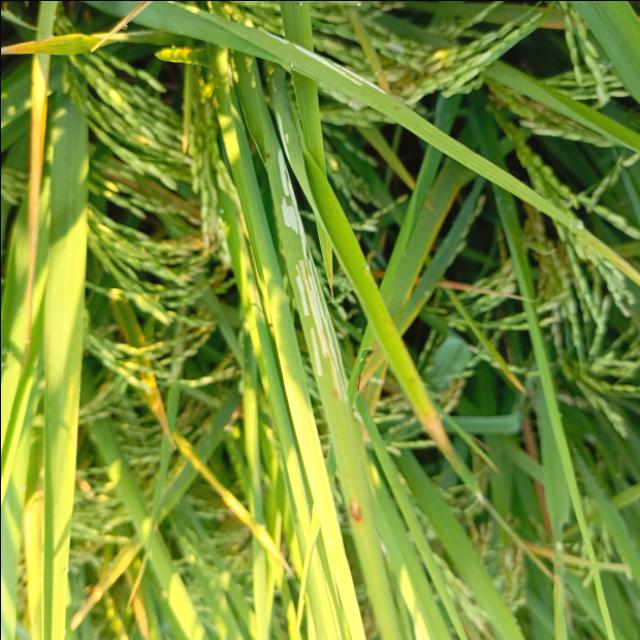Hawar Daun Bakteri: (13, 66, 58, 376), (404, 378, 464, 474), (90, 0, 170, 52), (442, 274, 536, 302), (0, 29, 89, 57), (142, 394, 179, 451), (605, 246, 640, 306)
Penggulung Daun: (282, 255, 348, 402), (260, 27, 388, 96), (268, 106, 312, 256)
